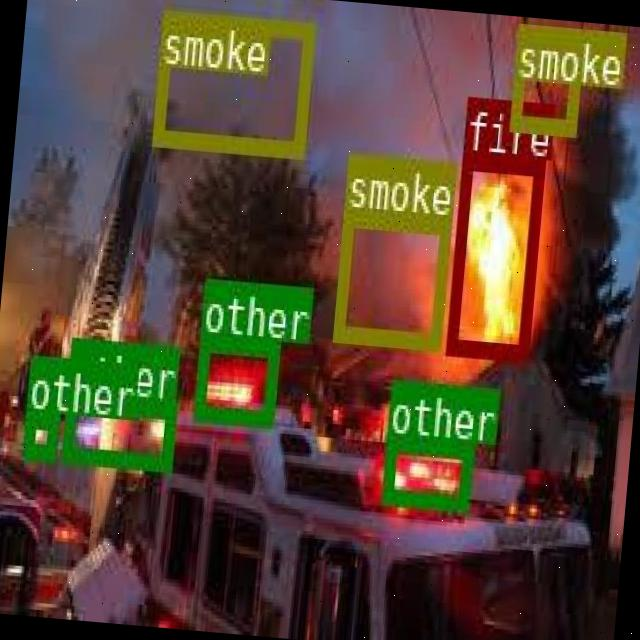fire: (445, 150, 543, 356)
smoke: (150, 7, 313, 153), (332, 206, 449, 346), (508, 23, 582, 131)
